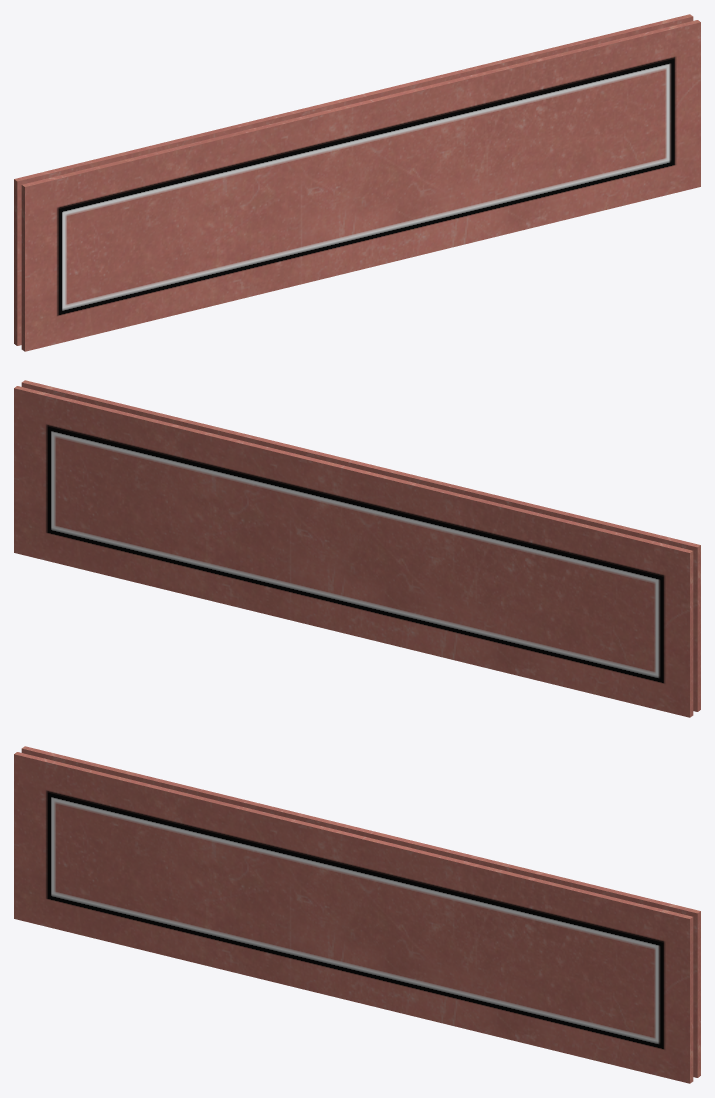
The model's file is SM_SJJ_HG_Wall03F.fbx.
3 views of the same model, one above another, from view 1: azimuth 30°, elevation 25°; view 2: azimuth 150°, elevation 25°; view 3: azimuth 330°, elevation 25° (orthographic).
Parts seen in each view (by area): view 1: SM_SJJ_HG_Wall03F; view 2: SM_SJJ_HG_Wall03F; view 3: SM_SJJ_HG_Wall03F.
Part boxes in pixels (left/top/right/bottom): SM_SJJ_HG_Wall03F: left=14, top=14, right=700, bottom=351; SM_SJJ_HG_Wall03F: left=14, top=380, right=700, bottom=717; SM_SJJ_HG_Wall03F: left=14, top=746, right=700, bottom=1083.
Bounding box in the file's own units: 232 × 6.53 × 53.97.
1 material, 1 textured.
